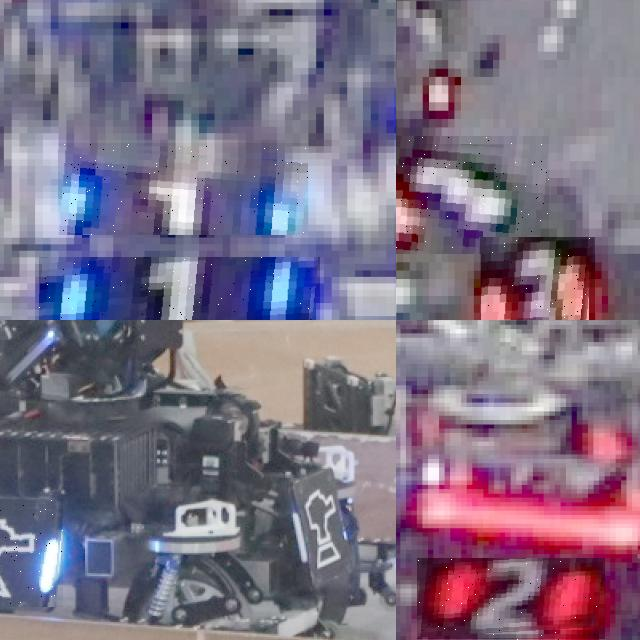B1: (59, 143, 308, 235), (39, 257, 320, 320)
Bs: (0, 499, 62, 606)
R2: (417, 558, 604, 640)
R3: (396, 136, 550, 254), (480, 237, 595, 320)
